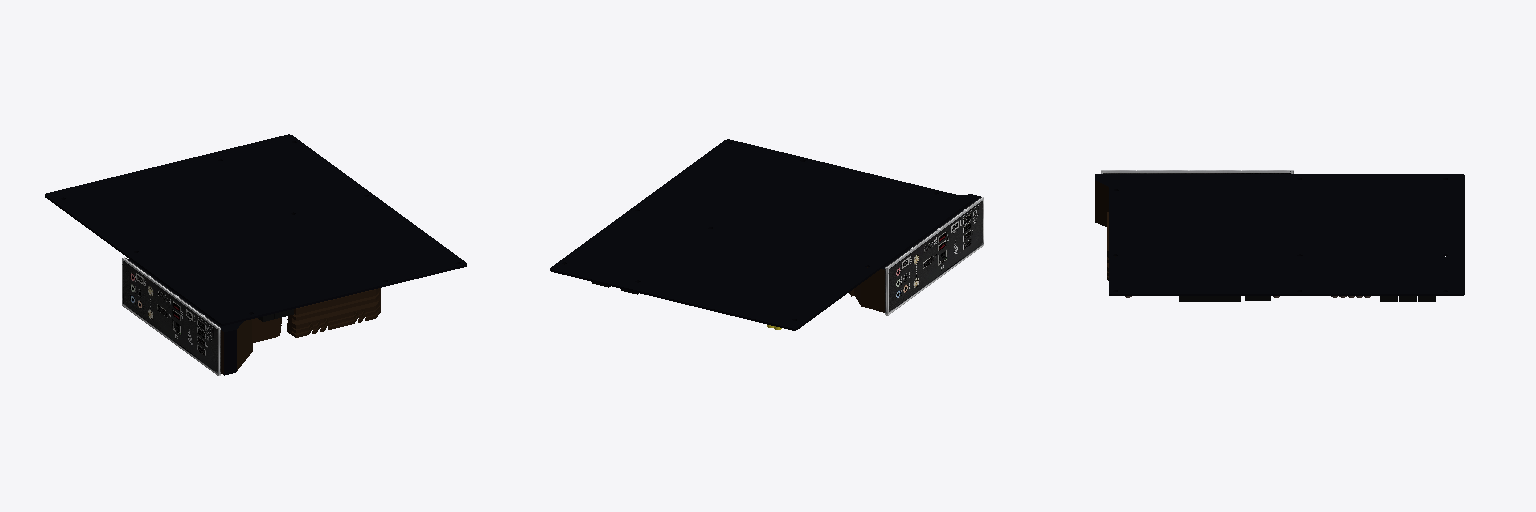
The picture shows the model from 3 angles: view 1: azimuth 30°, elevation 25°; view 2: azimuth 150°, elevation 25°; view 3: azimuth 270°, elevation 25°; orthographic projection.
Visible parts, largest first — view 1: MORPH Rez-de-chaussée carte_mère SMOOTH_PART, MORPH Rez-de-chaussée carte_mère_arriere SMOOTH_PART, MORPH Rez-de-chaussée Bois_-_Wenge SMOOTH_PART, MORPH Rez-de-chaussée carte_mère_arriere_sup SMOOTH_PART; view 2: MORPH Rez-de-chaussée carte_mère SMOOTH_PART, MORPH Rez-de-chaussée carte_mère_arriere SMOOTH_PART, MORPH Rez-de-chaussée Bois_-_Wenge SMOOTH_PART; view 3: MORPH Rez-de-chaussée carte_mère SMOOTH_PART, MORPH Rez-de-chaussée Peinture_-_Anthracite SMOOTH_PART, MORPH Rez-de-chaussée carte_mère_arriere SMOOTH_PART, MORPH Rez-de-chaussée Bois_-_Wenge SMOOTH_PART.
Part boxes in pixels (x1,y1,x2,y2): MORPH Rez-de-chaussée carte_mère SMOOTH_PART: (45, 134, 466, 325); MORPH Rez-de-chaussée carte_mère_arriere SMOOTH_PART: (122, 257, 220, 375); MORPH Rez-de-chaussée Bois_-_Wenge SMOOTH_PART: (221, 288, 380, 374); MORPH Rez-de-chaussée carte_mère_arriere_sup SMOOTH_PART: (128, 259, 243, 375); MORPH Rez-de-chaussée carte_mère SMOOTH_PART: (550, 139, 971, 330); MORPH Rez-de-chaussée carte_mère_arriere SMOOTH_PART: (885, 197, 983, 315); MORPH Rez-de-chaussée Bois_-_Wenge SMOOTH_PART: (849, 267, 884, 312); MORPH Rez-de-chaussée carte_mère SMOOTH_PART: (1109, 174, 1464, 295); MORPH Rez-de-chaussée Peinture_-_Anthracite SMOOTH_PART: (1179, 296, 1435, 301); MORPH Rez-de-chaussée carte_mère_arriere SMOOTH_PART: (1101, 170, 1293, 173); MORPH Rez-de-chaussée Bois_-_Wenge SMOOTH_PART: (1095, 180, 1115, 280).
Size of the model in its own units: 251 by 45.22 by 316.
12 materials, 1 textured.